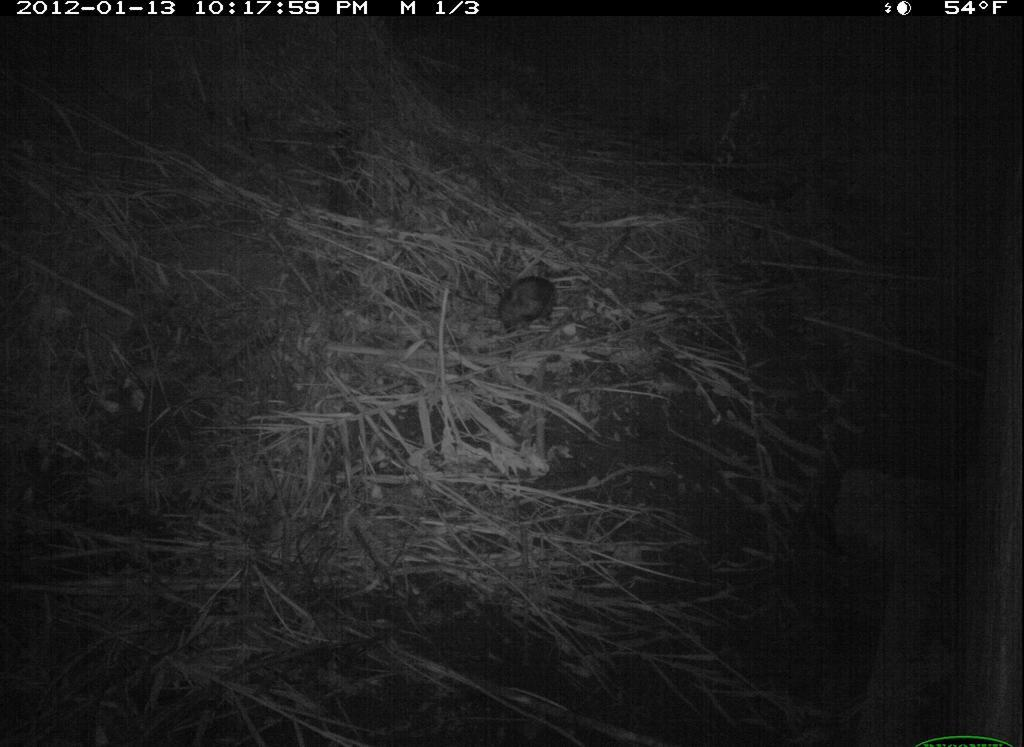opossum: (488, 265, 570, 333)
